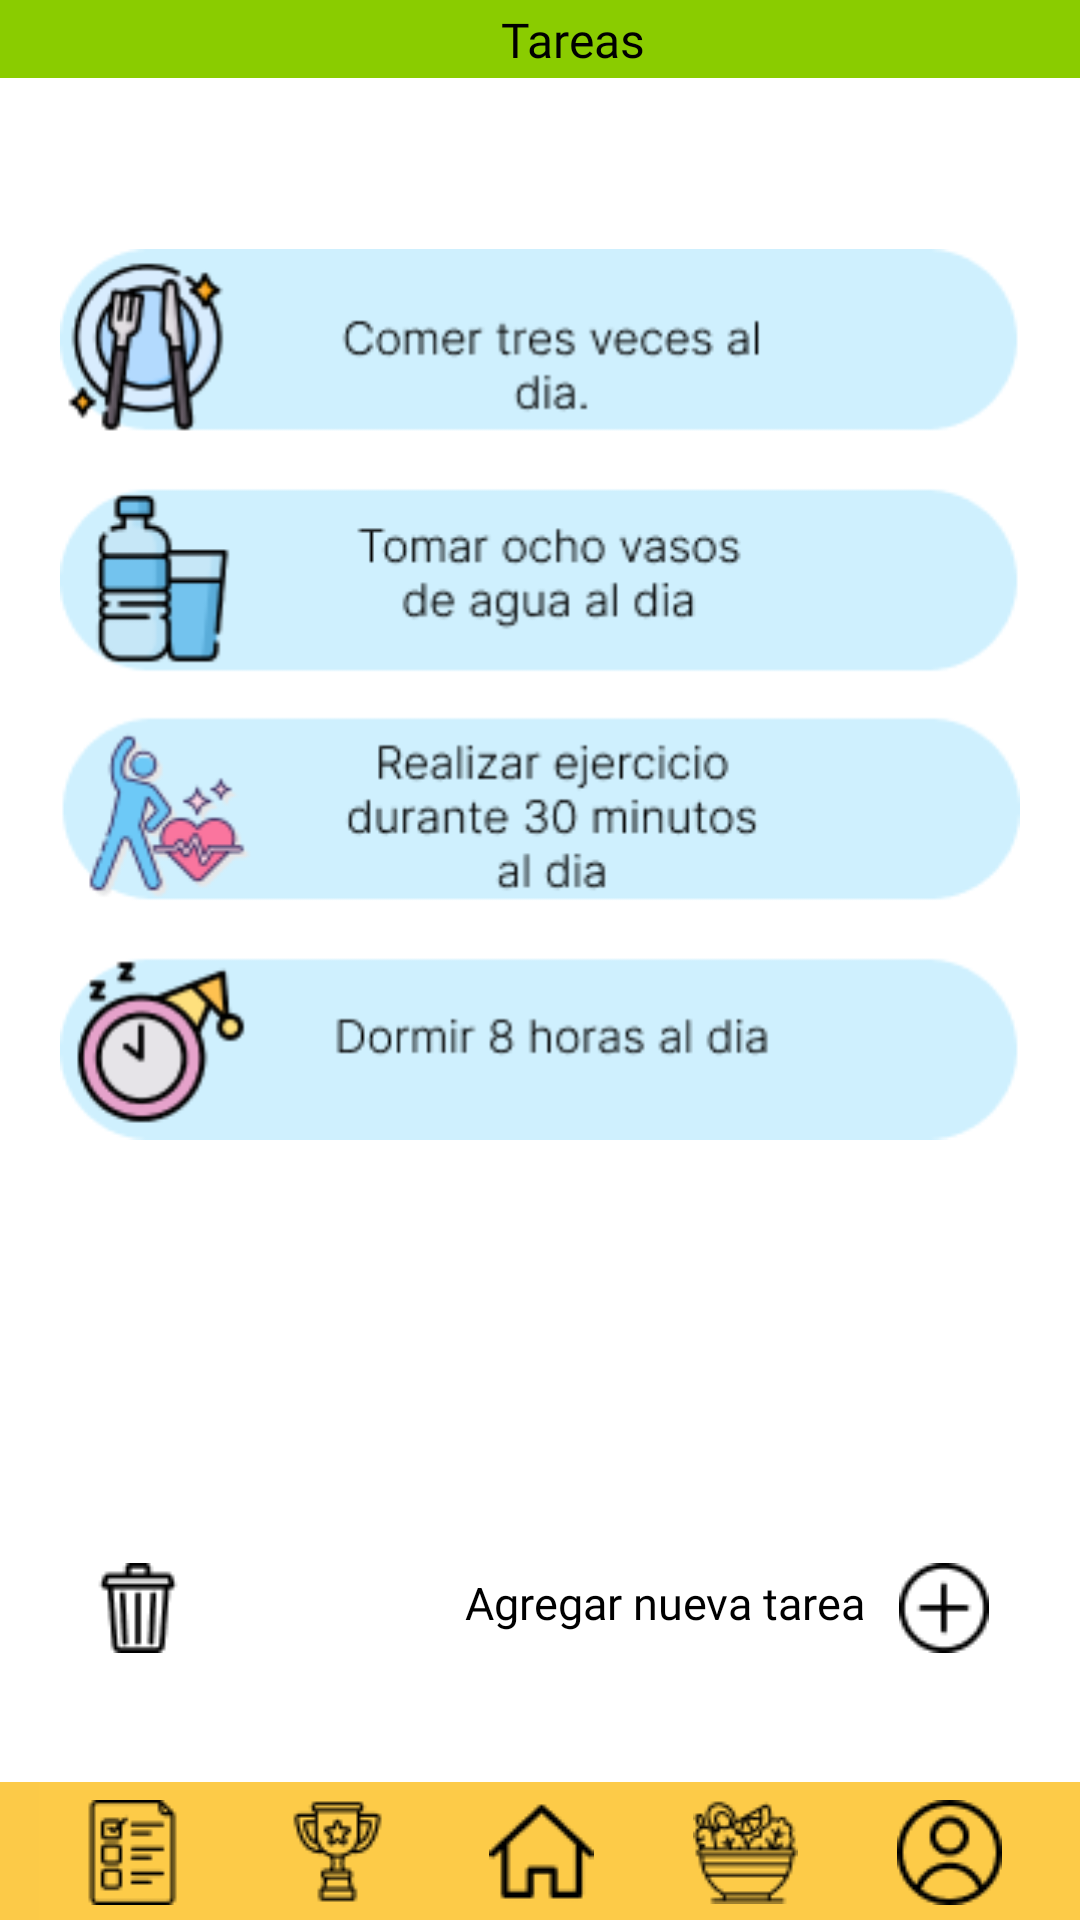

Screen size 1080×1920. Icon name, then its box in pixels as (x1, y1, x2, y2):
eliminar: (99, 1563, 177, 1653)
iniciop: (489, 1804, 594, 1899)
listatareas: (88, 1800, 177, 1905)
logros: (293, 1801, 382, 1902)
mas: (899, 1563, 989, 1653)
perfil: (897, 1800, 1002, 1905)
recetass: (693, 1801, 798, 1904)
